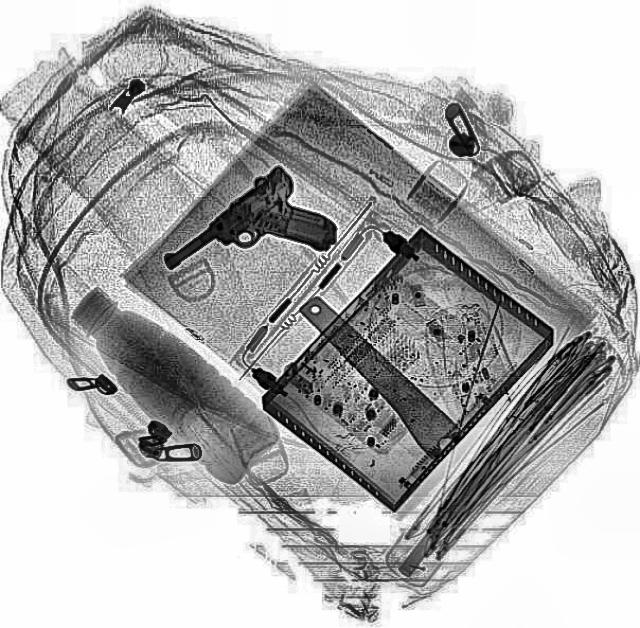Gun: (154, 157, 348, 329)
